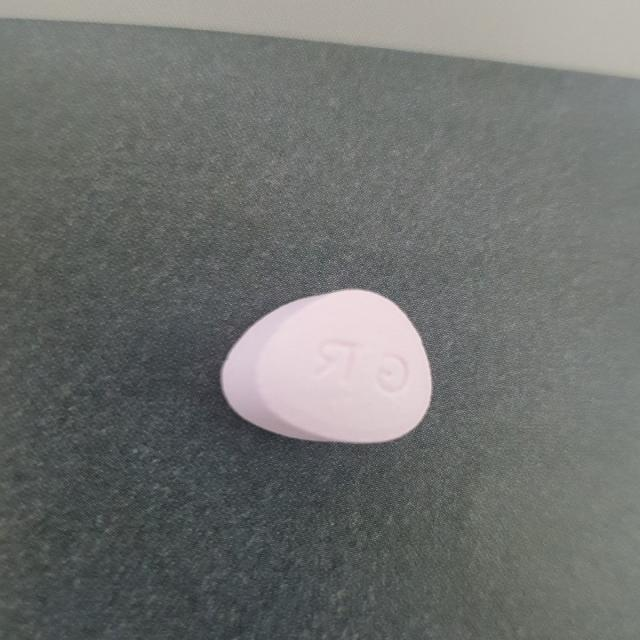pill: (207, 274, 452, 452)
